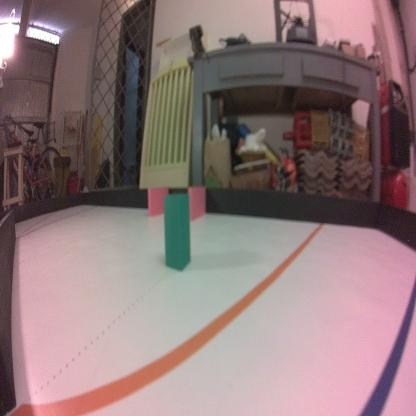green: (162, 193, 192, 273)
magenta: (188, 184, 206, 220), (147, 184, 167, 216)
